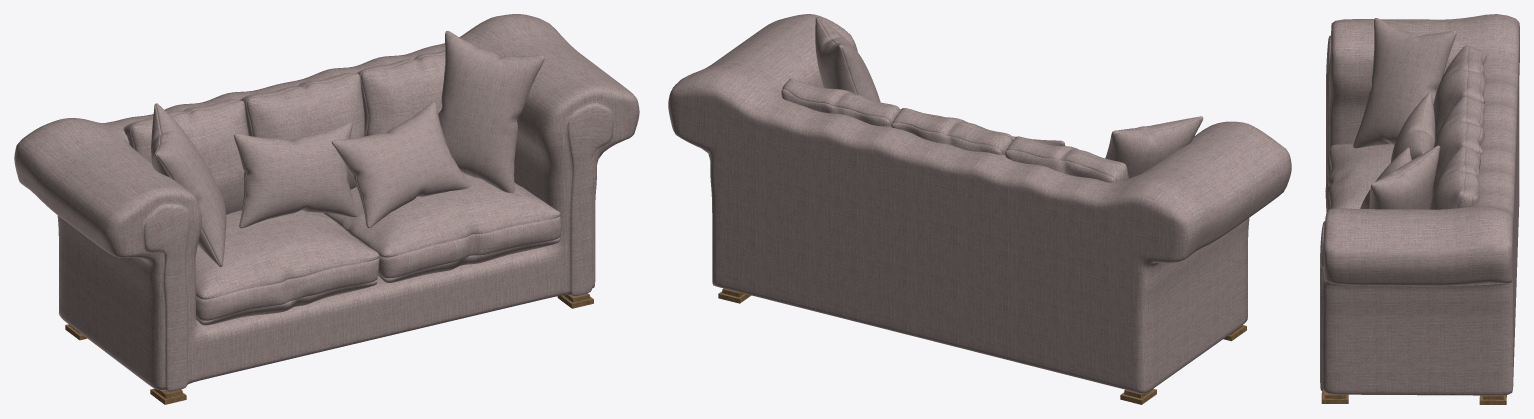
File: Couch.fbx
The picture shows the model from 3 angles, left to right: view 1: azimuth 30°, elevation 25°; view 2: azimuth 150°, elevation 25°; view 3: azimuth 270°, elevation 25°; orthographic projection. The views are drawn at different scales.
Visible parts, largest first — view 1: Couch, Pillow_2, Pillow_2.002, Pillow_2.003, Pillow_2.001; view 2: Couch, Pillow_2.001, Pillow_2; view 3: Couch, Pillow_2.001, Pillow_2, Pillow_2.002, Pillow_2.003.
Boxes of the visible parts, bbox=[...] form: Couch: bbox=[14, 14, 639, 404]; Pillow_2: bbox=[438, 31, 544, 193]; Pillow_2.002: bbox=[234, 123, 357, 228]; Pillow_2.003: bbox=[331, 101, 471, 227]; Pillow_2.001: bbox=[151, 103, 226, 266]; Couch: bbox=[668, 14, 1291, 404]; Pillow_2.001: bbox=[1105, 116, 1203, 178]; Pillow_2: bbox=[815, 17, 880, 102]; Couch: bbox=[1320, 14, 1519, 404]; Pillow_2.001: bbox=[1353, 18, 1456, 148]; Pillow_2: bbox=[1369, 145, 1440, 209]; Pillow_2.002: bbox=[1390, 92, 1435, 162]; Pillow_2.003: bbox=[1360, 147, 1411, 208].
Bounding box in the file's own units: 957 × 423 × 345.
